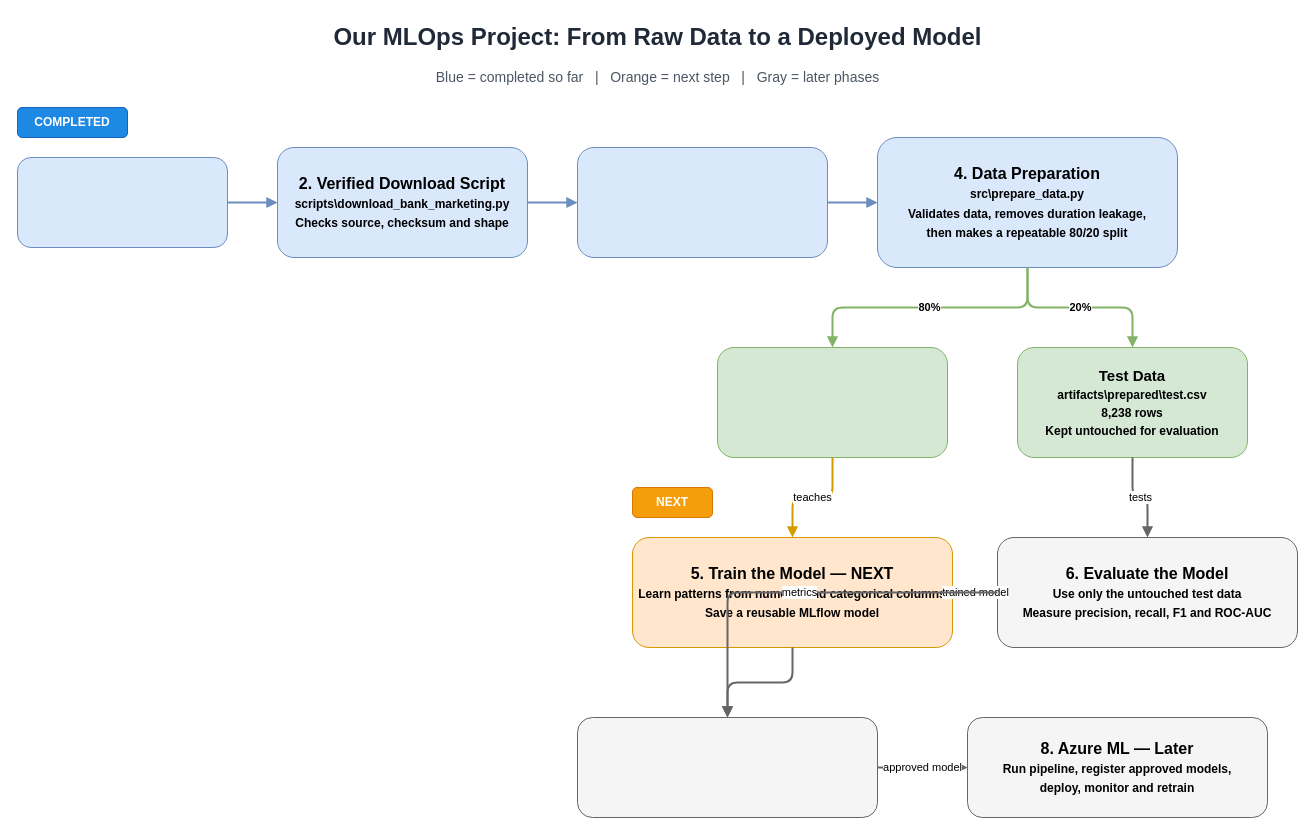
Image size: 1315x835. Some labels were removed from this diagram. Each missing label, with the box of its shape:
1. Official UCI Website Public Bank Marketing dataset: (16, 156, 228, 248)
3. Original Data data\raw\bank-additional-full.csv 41,188 rows × 21 columns: (576, 146, 828, 258)
7. Track with MLflow Record data, code, settings, metrics and model artifact: (576, 716, 878, 818)
Training Data artifacts\prepared\train.csv 32,950 rows Used to teach the model: (716, 346, 948, 458)
